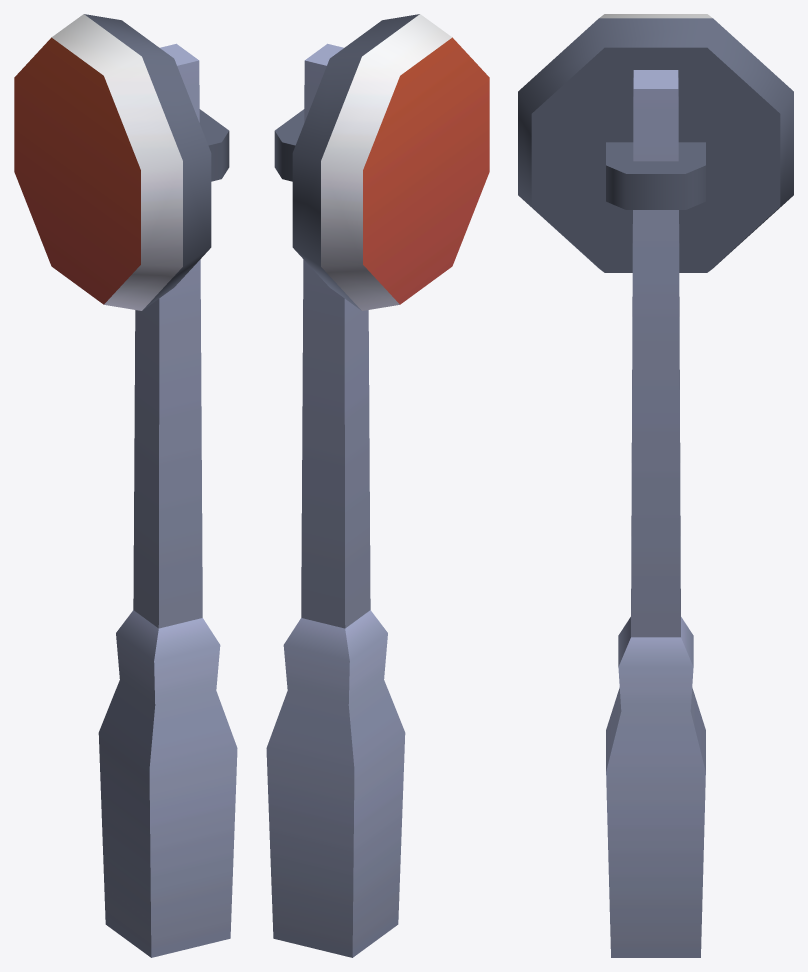
Rendered from road-sign-stop.glb.
3 views of the same model, side by side, from view 1: azimuth 30°, elevation 25°; view 2: azimuth 150°, elevation 25°; view 3: azimuth 270°, elevation 25° (orthographic).
Parts seen in each view (by area): view 1: road-sign-stop; view 2: road-sign-stop; view 3: road-sign-stop.
Boxes of the visible parts, left/top/right/bottom form: road-sign-stop: left=14, top=14, right=237, bottom=957; road-sign-stop: left=266, top=14, right=489, bottom=957; road-sign-stop: left=518, top=14, right=793, bottom=957.
Bounding box in the file's own units: 0.0775 × 0.4941 × 0.1382.
Materials: 1 (1 with a texture image).
